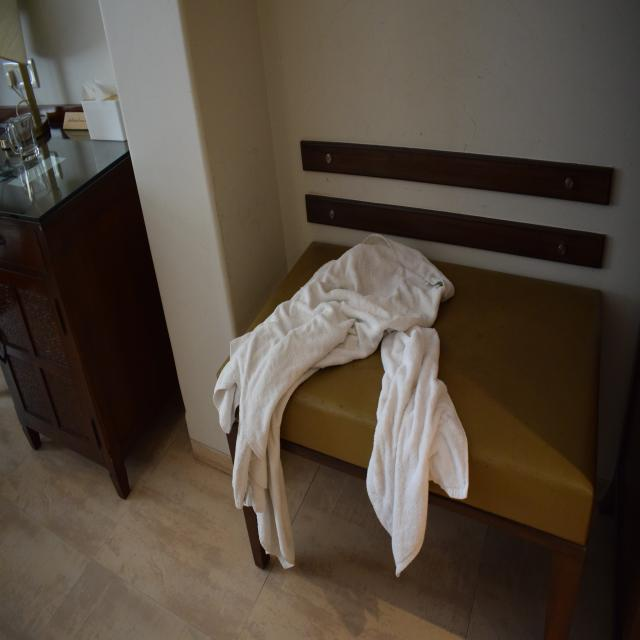mess: (206, 213, 606, 479)
